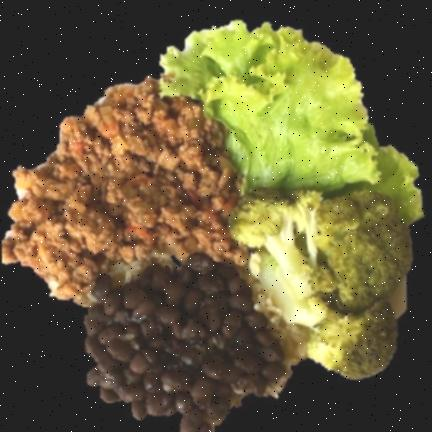beans: (88, 252, 302, 432)
broccoli: (229, 186, 412, 380)
meat: (2, 79, 252, 304)
salad: (163, 23, 426, 224)
